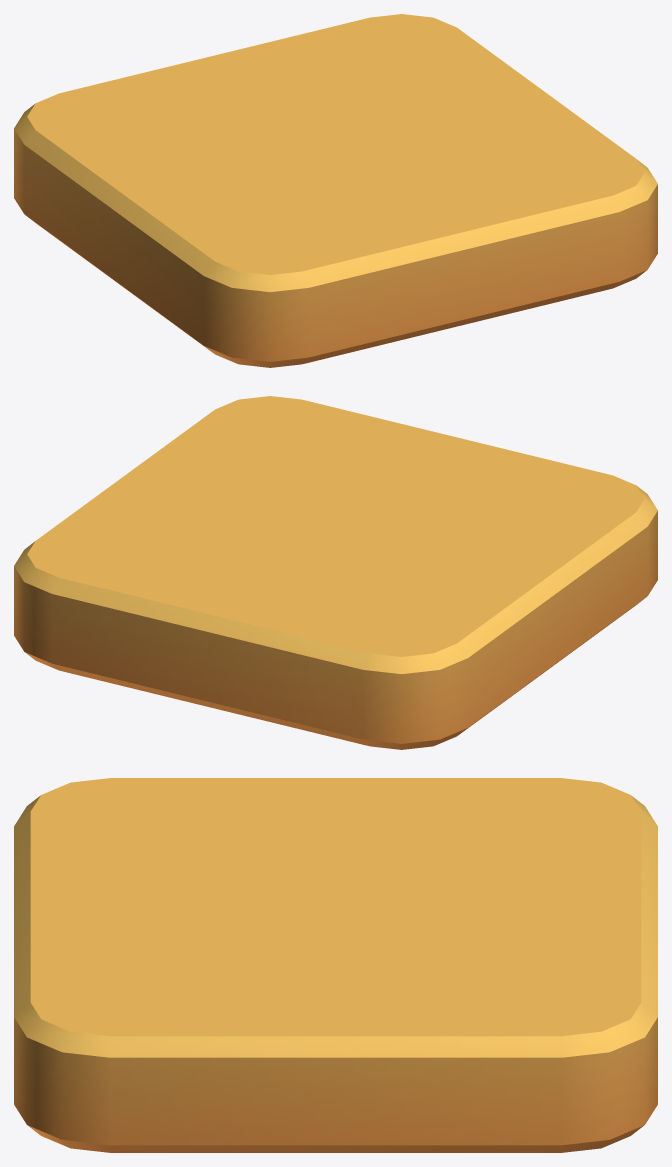
File: tile-yellow.glb
3 views of the same model, one above another, from view 1: azimuth 30°, elevation 25°; view 2: azimuth 150°, elevation 25°; view 3: azimuth 270°, elevation 25° (orthographic). The views are drawn at different scales.
Parts seen in each view (by area): view 1: tile_yellow; view 2: tile_yellow; view 3: tile_yellow.
Part boxes in pixels (x1,y1,x2,y2): tile_yellow: (14,14,657,367); tile_yellow: (14,396,657,749); tile_yellow: (14,778,657,1152).
Size of the model in its own units: 1 by 0.2 by 1.
Materials: 1 (1 with a texture image).
